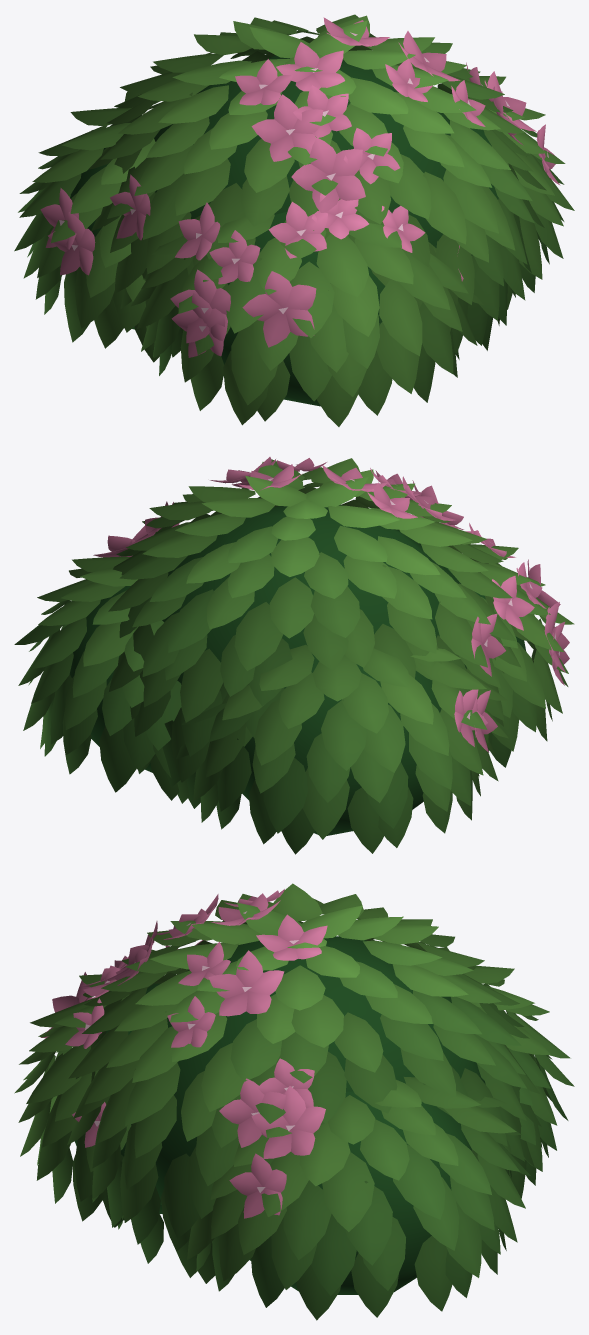
Rendered from bush_azalea.glb.
3 renders of one model, top to bottom at view 1: azimuth 30°, elevation 25°; view 2: azimuth 150°, elevation 25°; view 3: azimuth 270°, elevation 25°, orthographic. The views are drawn at different scales.
Visible parts, largest first — view 1: bush_azalea; view 2: bush_azalea; view 3: bush_azalea.
Boxes of the visible parts, x1,y1,x2,y2 form: bush_azalea: (14,14,574,426); bush_azalea: (14,457,574,854); bush_azalea: (14,883,574,1320).
Size of the model in its own units: 1.37 by 0.8658 by 1.32.
